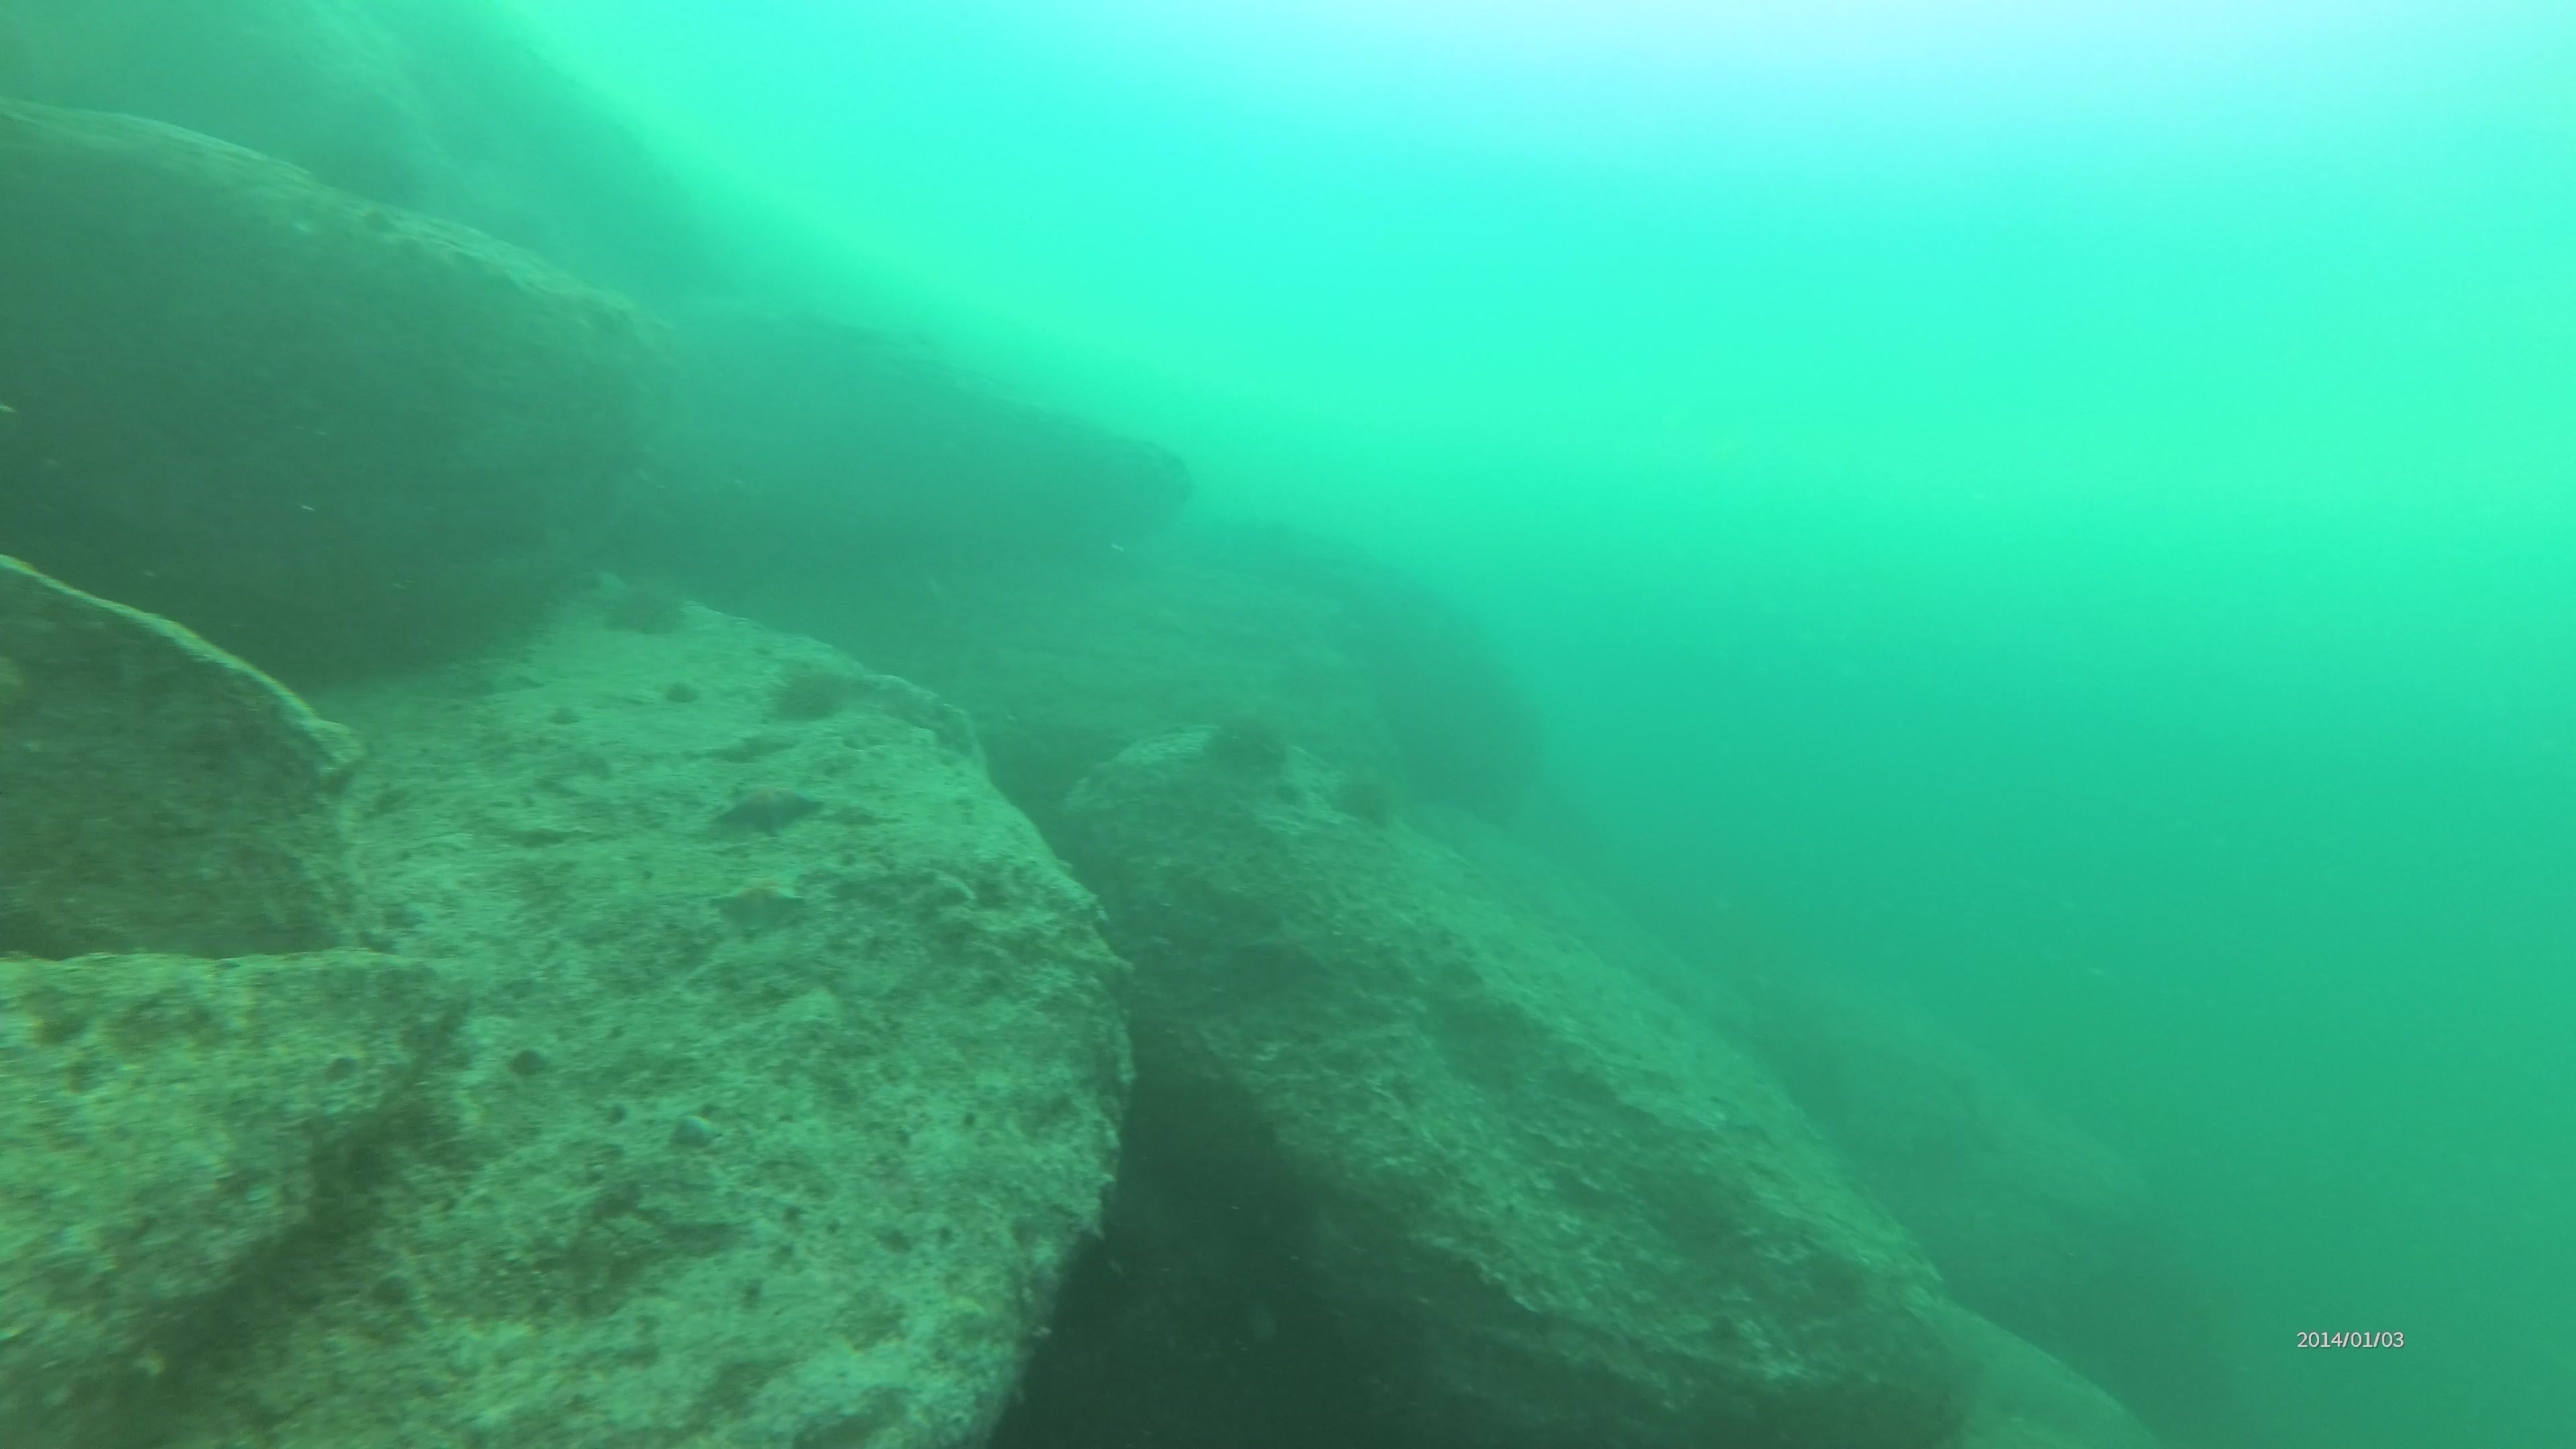echinus: (589, 561, 699, 644), (1196, 706, 1297, 789), (759, 656, 853, 731)
starfish: (708, 777, 830, 840), (706, 874, 810, 941)
